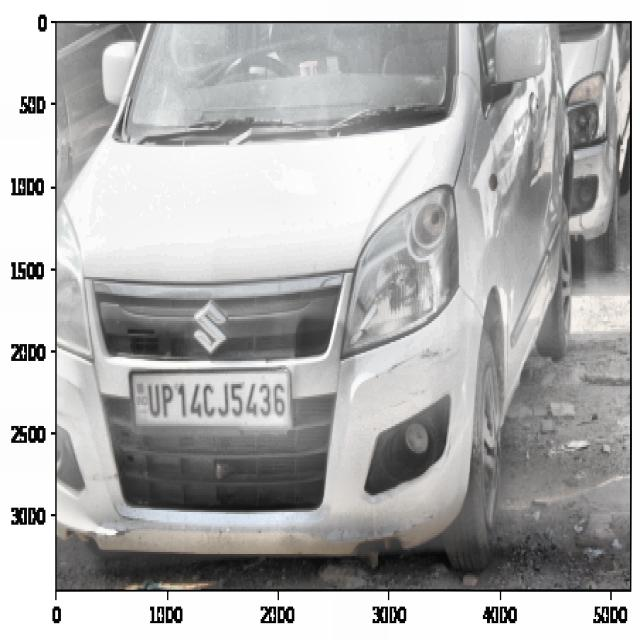license_plate: (142, 374, 290, 429)
